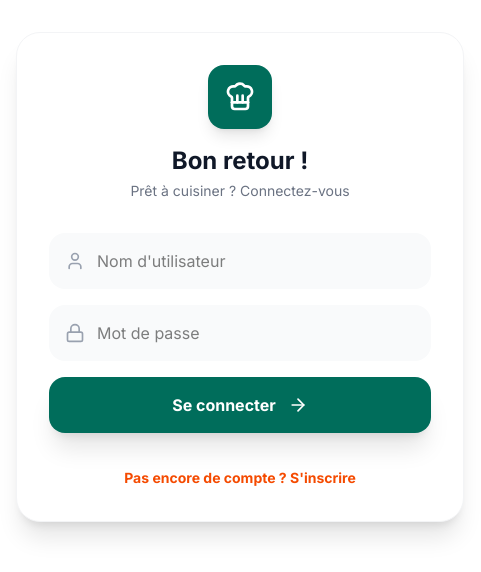
Test: LoginPage › erreur sans message : affiche un message générique
Type "alice" into the field with placeholder "Nom d'utilisateur". click: (240, 261)
box: [49,233,431,289]
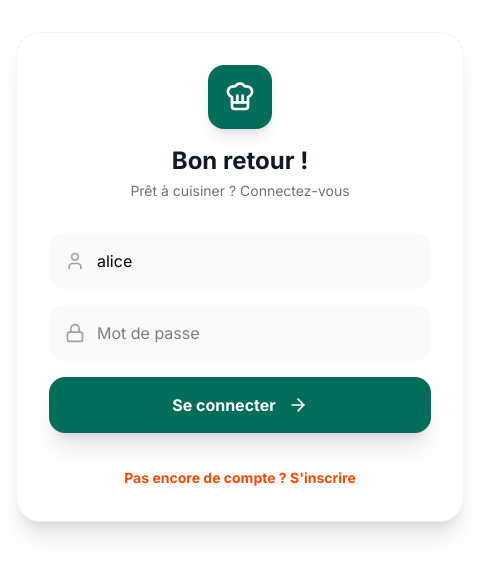
Type "secret" into the password field with placeholder "Mot de passe". click: (240, 333)
box: [49,305,431,361]
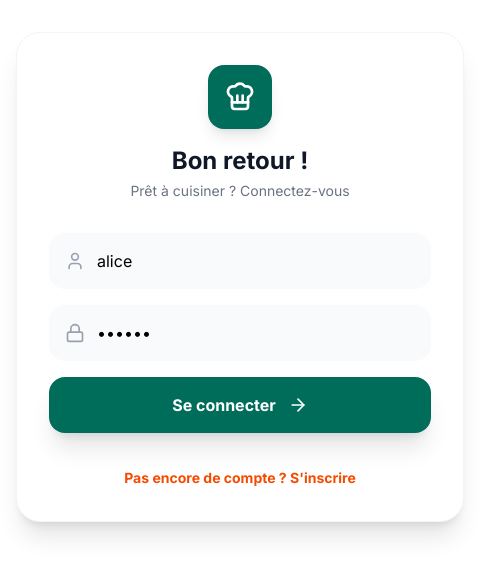
Submit the form with placeholder "Mot de passe", box [49,233,431,433]
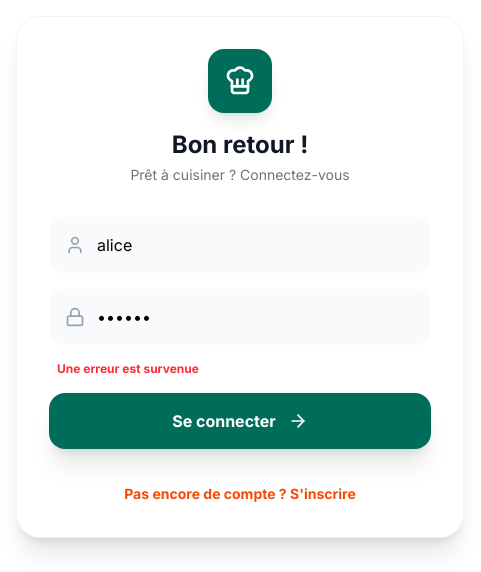
Expected: the text "Une erreur est survenue" is shown, [57,361,199,376]
